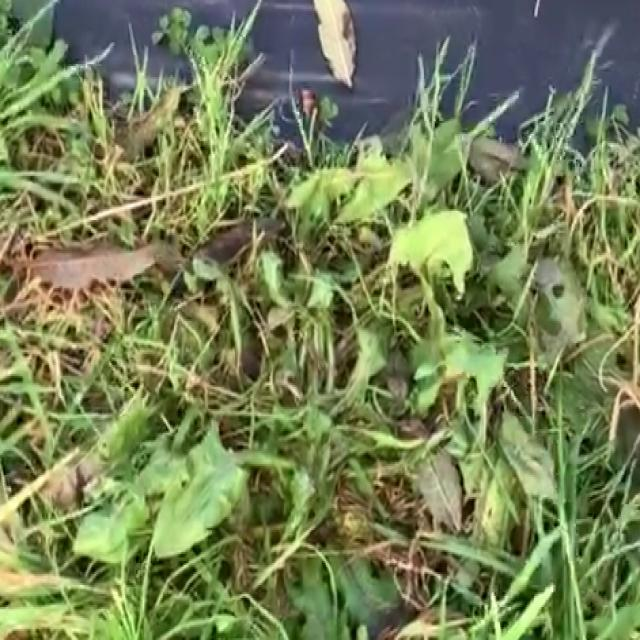organic waste: (342, 136, 640, 561), (99, 374, 364, 640)
